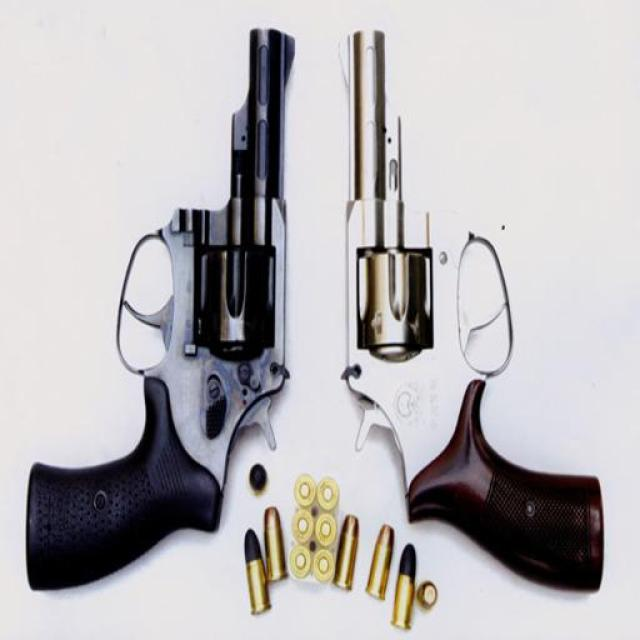pistol: (21, 26, 296, 594), (335, 30, 605, 596)
